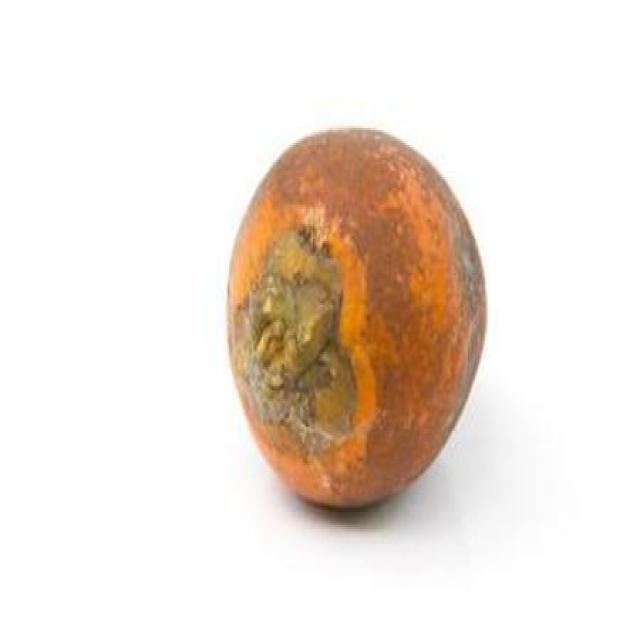good: (225, 128, 489, 512)
